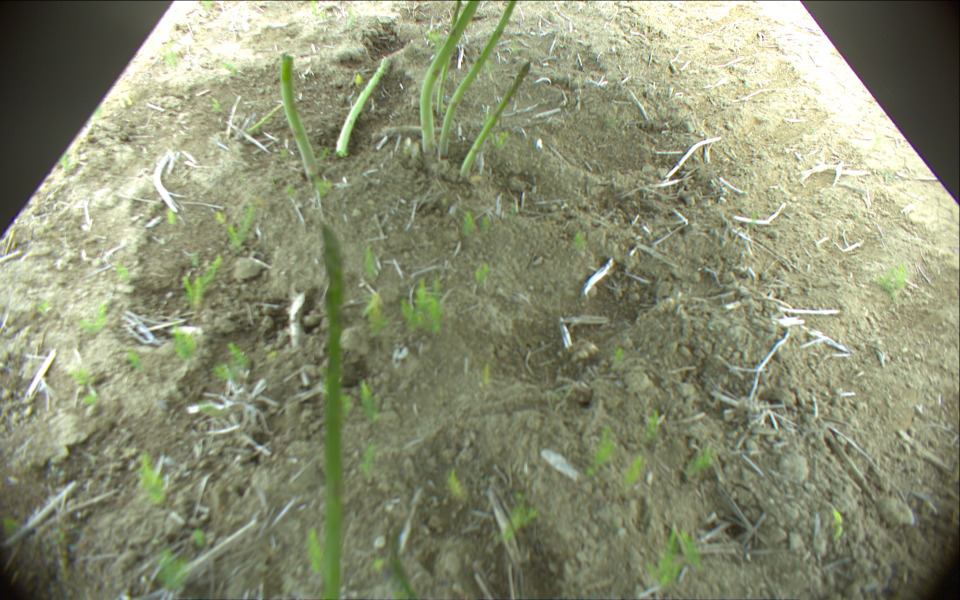aspa: (438, 1, 515, 158), (420, 1, 482, 158), (319, 226, 343, 600), (460, 61, 532, 179), (336, 53, 389, 158), (279, 54, 313, 179), (437, 1, 461, 116), (244, 103, 286, 135)
